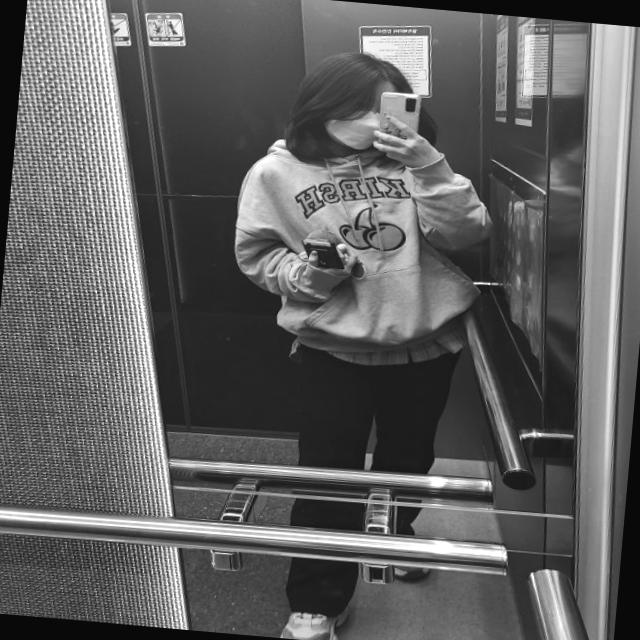hoodies: (222, 128, 500, 364)
slacks: (272, 332, 457, 622)
